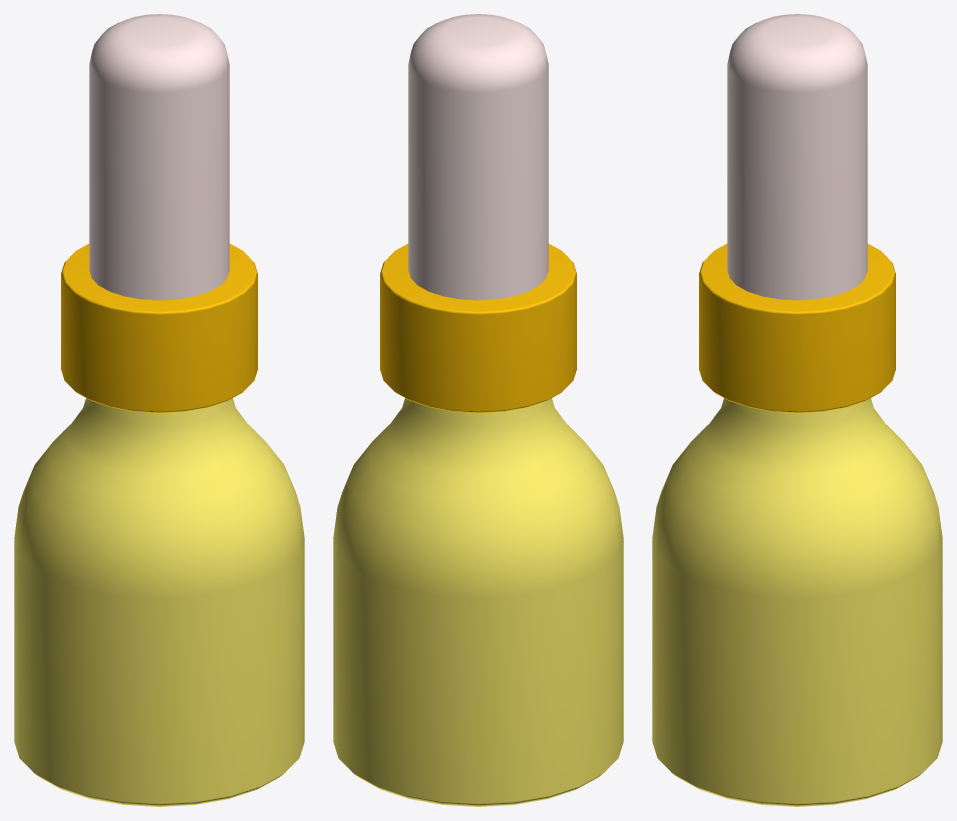
File: Store_17_Serum_Bottle_2.glb
The picture shows the model from 3 angles, left to right: view 1: azimuth 30°, elevation 25°; view 2: azimuth 150°, elevation 25°; view 3: azimuth 270°, elevation 25°; orthographic projection.
Visible parts, largest first — view 1: Store_17_Serum_Bottle_2; view 2: Store_17_Serum_Bottle_2; view 3: Store_17_Serum_Bottle_2.
Part boxes in pixels (x1,y1,x2,y2): Store_17_Serum_Bottle_2: [14, 14, 304, 806]; Store_17_Serum_Bottle_2: [333, 14, 623, 806]; Store_17_Serum_Bottle_2: [652, 14, 942, 806].
Bounding box in the file's own units: 0.3075 × 0.8382 × 0.3075.
1 material, 1 textured.
